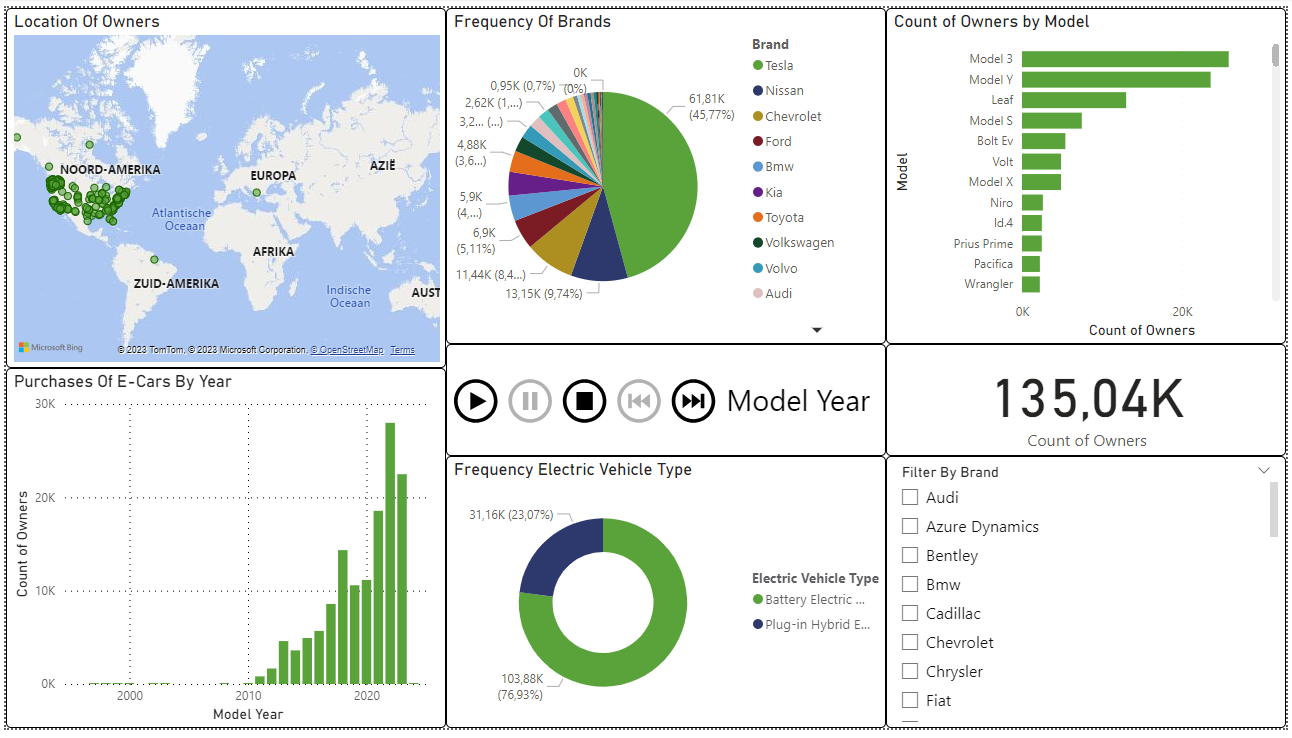

The page's visual inventory and layout, read from the dashboard file:
{"tool":"powerbi","page":{"name":"Electric Vehicles","canvas":[1280,720],"ordinal":0},"visuals":[{"type":"map","title":"Location Of Owners","fields":{"Category":["Electric Vehicle Population Data.Owner Location"]},"box":[0,0,440,360],"z":0},{"type":"pieChart","title":"Frequency Of Brands","fields":{"Category":["Electric Vehicle Population Data.Brand"],"Y":["CountNonNull(Electric Vehicle Population Data.Vehicle ID)"]},"box":[440,0,440,336],"z":1000},{"type":"columnChart","title":"Purchases Of E-Cars By Year","fields":{"Category":["Electric Vehicle Population Data.Model Year"],"Y":["CountNonNull(Electric Vehicle Population Data.Vehicle ID)"]},"box":[0,360,440,360],"z":2000},{"type":"PBI_CV_16948668_E17D_454B_8664_2F2C470EA8C1","fields":{"category":["Electric Vehicle Population Data.Model Year"]},"box":[440,336,440,112],"z":3000},{"type":"donutChart","title":"Frequency Electric Vehicle Type","fields":{"Y":["CountNonNull(Electric Vehicle Population Data.Owners)"],"Category":["Electric Vehicle Population Data.Electric Vehicle Type"]},"box":[440,448,440,272],"z":4000},{"type":"barChart","fields":{"Category":["Electric Vehicle Population Data.Model"],"Y":["CountNonNull(Electric Vehicle Population Data.Owners)"]},"box":[880,0,400,336],"z":5000},{"type":"slicer","fields":{"Values":["Electric Vehicle Population Data.Brand"]},"box":[880,448,400,272],"z":6000},{"type":"card","fields":{"Values":["CountNonNull(Electric Vehicle Population Data.Owners)"]},"box":[880,336,400,112],"z":7000}]}

Visuals, with their boxes in screenshot pixels (x1, y1, x2, y2), scaled from the page's 1280x720 canvas onto the 1292x738 screenshot:
"Location Of Owners" map: bbox=(0, 0, 444, 369)
"Frequency Of Brands" pieChart: bbox=(444, 0, 888, 344)
"Purchases Of E-Cars By Year" columnChart: bbox=(0, 369, 444, 737)
PBI_CV_16948668_E17D_454B_8664_2F2C470EA8C1 - Electric Vehicle Population Data.Model Year: bbox=(444, 344, 888, 459)
"Frequency Electric Vehicle Type" donutChart: bbox=(444, 459, 888, 737)
barChart - Electric Vehicle Population Data.Model x CountNonNull(Electric Vehicle Population Data.Owners): bbox=(888, 0, 1291, 344)
slicer - Electric Vehicle Population Data.Brand: bbox=(888, 459, 1291, 737)
card - CountNonNull(Electric Vehicle Population Data.Owners): bbox=(888, 344, 1291, 459)
